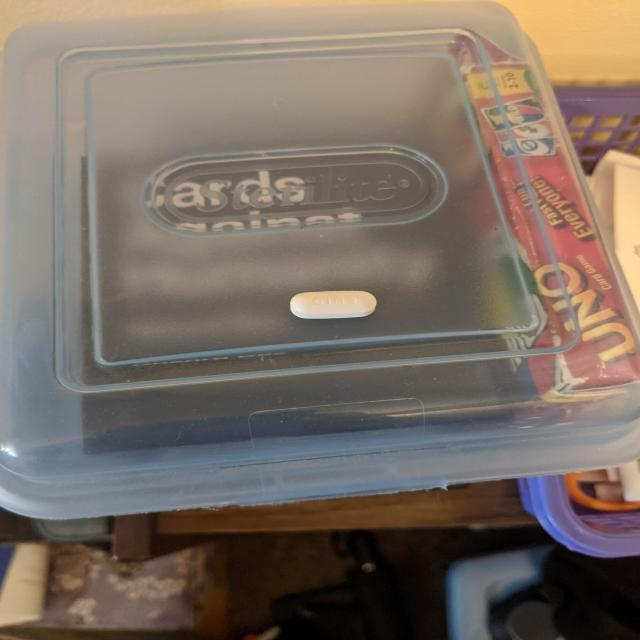non-organic waste: (289, 290, 378, 320)
